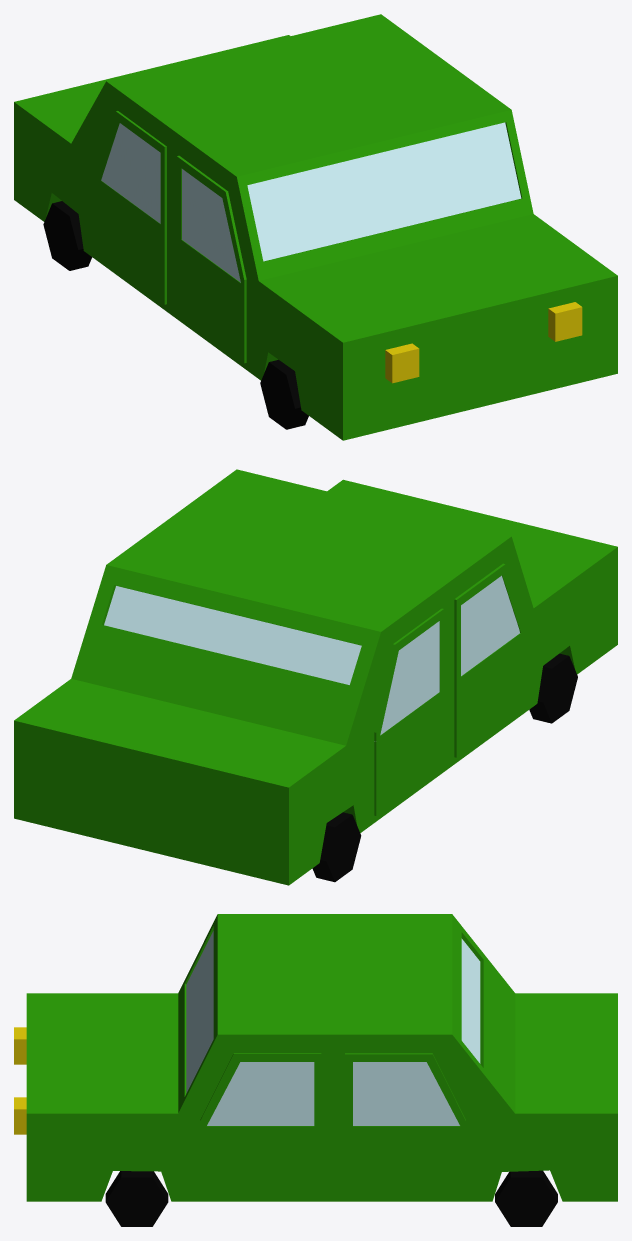
Rendered from Coche  Verde.fbx.
The picture shows the model from 3 angles, top to bottom: view 1: azimuth 30°, elevation 25°; view 2: azimuth 150°, elevation 25°; view 3: azimuth 270°, elevation 25°; orthographic projection. The views are drawn at different scales.
Visible parts, largest first — view 1: Cube, Cube.010, Cube.004, Cube.005, Cube.009, Cube.008, Cube.002, Cylinder.002, Cylinder.003; view 2: Cube, Cube.011, Cube.005, Cube.004, Cube.009, Cube.008, Cylinder.003, Cylinder.002; view 3: Cube, Cube.001, Cube.003, Cube.006, Cube.007, Cube.010, Cylinder, Cylinder.001, Cube.011, Cube.002.
Part boxes in pixels (x1,y1,x2,y2): Cube: (14, 14, 617, 440); Cube.010: (247, 122, 521, 261); Cube.004: (176, 155, 246, 363); Cube.005: (97, 111, 166, 304); Cube.009: (101, 123, 160, 223); Cube.008: (182, 169, 240, 282); Cube.002: (385, 302, 582, 383); Cylinder.002: (260, 359, 308, 429); Cylinder.003: (43, 201, 92, 270); Cube: (14, 469, 617, 885); Cube.011: (104, 586, 361, 684); Cube.005: (374, 608, 443, 815); Cube.004: (454, 563, 523, 757); Cube.009: (374, 621, 439, 741); Cube.008: (461, 575, 519, 675); Cylinder.003: (312, 812, 361, 882); Cylinder.002: (529, 653, 577, 723); Cube: (26, 914, 617, 1201); Cube.001: (345, 1053, 465, 1196); Cube.003: (200, 1053, 321, 1195); Cube.006: (207, 1062, 314, 1125); Cube.007: (353, 1062, 459, 1125); Cube.010: (186, 931, 213, 1093); Cylinder: (105, 1171, 168, 1226); Cylinder.001: (495, 1170, 557, 1226); Cube.011: (461, 938, 480, 1063); Cube.002: (14, 1027, 26, 1134).
Size of the model in its own units: 173 by 125 by 358.
